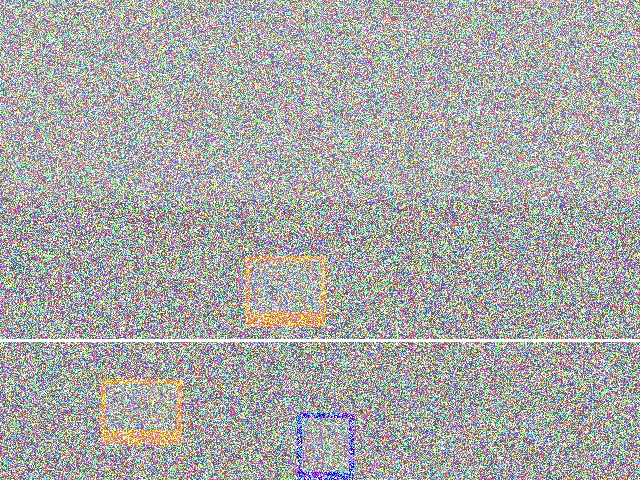motorcycle: (289, 377, 404, 455)
